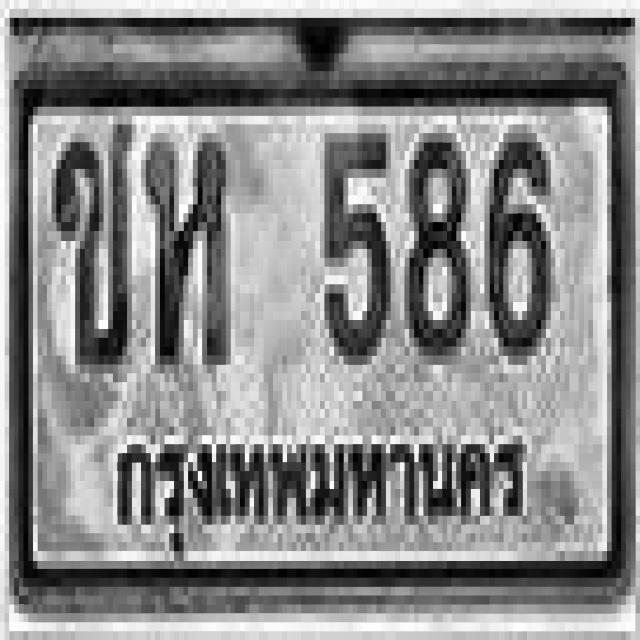license-plate: (12, 61, 626, 615)
